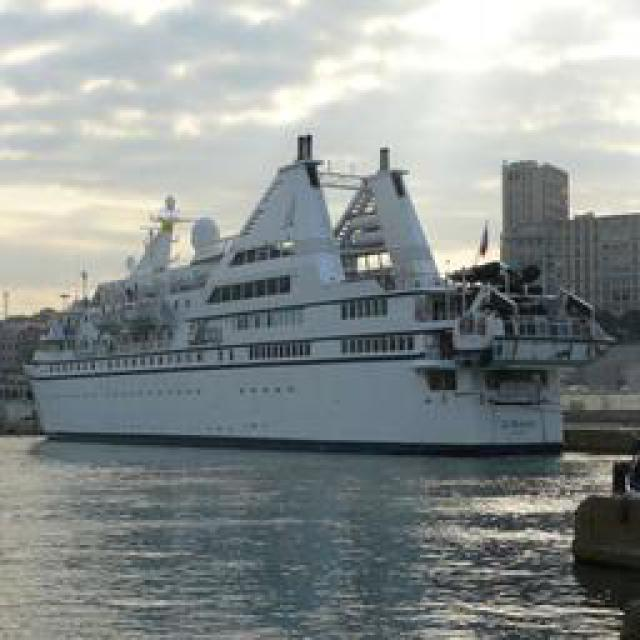Ship: (25, 134, 585, 454)
